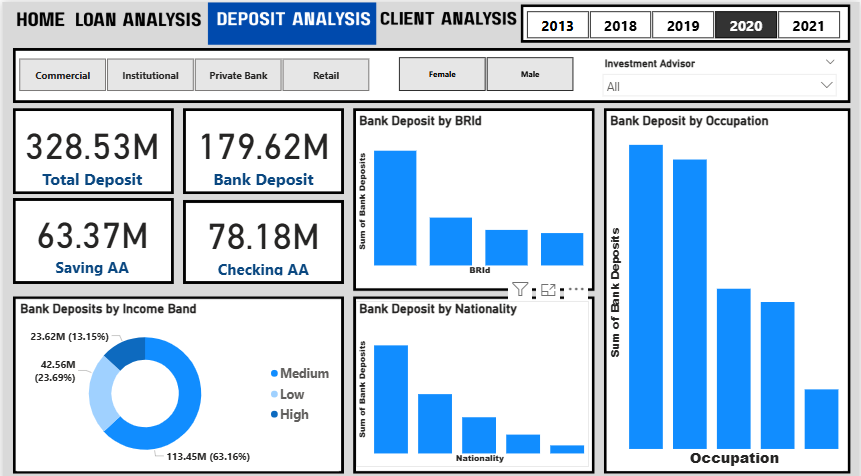

This screenshot's page, from the dashboard's own definition file:
{"tool":"powerbi","page":{"name":"Deposit Analysis","canvas":[1280,720],"ordinal":2},"visuals":[{"type":"slicer","fields":{"Values":["banking_case customer.Year of Joining"]},"box":[762.3,11.5,506.6,44.3],"z":0},{"type":"actionButton","box":[11.5,0,96.7,55.7],"z":1000},{"type":"actionButton","box":[109,0,189.6,55.2],"z":2000},{"type":"actionButton","box":[561.2,4.5,201.5,50.7],"z":4000},{"type":"card","fields":{"Values":["banking_case customer.Total Deposit"]},"box":[23,165.6,224.6,116.4],"z":5000},{"type":"card","fields":{"Values":["Sum(banking_case customer.Bank Deposits)"]},"box":[275.4,165.6,227.9,116.4],"z":6000},{"type":"card","fields":{"Values":["Sum(banking_case customer.Saving Accounts)"]},"box":[23,298.4,224.6,114.8],"z":7000},{"type":"card","fields":{"Values":["Sum(banking_case customer.Checking Accounts)"]},"box":[275.4,303.3,227.9,109.8],"z":8000},{"type":"donutChart","title":"Bank Deposits by Income Band","fields":{"Category":["banking_case customer.Income Band"],"Y":["Sum(banking_case customer.Bank Deposits)"]},"box":[23,445.9,480.3,254.1],"z":9000},{"type":"clusteredColumnChart","title":"Bank Deposit by BRId","fields":{"Category":["banking_case customer.BRId"],"Y":["Sum(banking_case customer.Bank Deposits)"]},"box":[527.9,165.6,347.5,247.5],"z":10000},{"type":"clusteredColumnChart","title":"Bank Deposit by Nationality","fields":{"Category":["banking_case customer.Nationality"],"Y":["Sum(banking_case customer.Bank Deposits)"]},"box":[527.9,445.9,347.5,247.5],"z":11000},{"type":"clusteredColumnChart","title":"Bank Deposit by Occupation","fields":{"Y":["Sum(banking_case customer.Bank Deposits)"],"Category":["banking_case customer.Occupation"]},"box":[903.3,165.6,352.5,534.4],"z":12000},{"type":"slicer","fields":{"Values":["banking_case customer.BRId"]},"box":[0,77,572.1,62.3],"z":13000},{"type":"slicer","fields":{"Values":["banking_case customer.GenderId"]},"box":[572.1,80.3,300,54.1],"z":14000},{"type":"slicer","fields":{"Values":["banking_case customer.IAId"]},"box":[886.9,77,368.9,65.6],"z":15000},{"type":"actionButton","box":[313.4,1.5,237.3,55.2],"z":15001}]}

Visuals, with their boxes in screenshot pixels (x1, y1, x2, y2), scaled from the page's 1280x720 canvas onto the 861x476 screenshot:
slicer - banking_case customer.Year of Joining: [513,8,854,37]
actionButton: [8,0,73,37]
actionButton: [73,0,201,36]
actionButton: [377,3,513,36]
card - banking_case customer.Total Deposit: [15,109,167,186]
card - Sum(banking_case customer.Bank Deposits): [185,109,339,186]
card - Sum(banking_case customer.Saving Accounts): [15,197,167,273]
card - Sum(banking_case customer.Checking Accounts): [185,201,339,273]
"Bank Deposits by Income Band" donutChart: [15,295,339,463]
"Bank Deposit by BRId" clusteredColumnChart: [355,109,589,273]
"Bank Deposit by Nationality" clusteredColumnChart: [355,295,589,458]
"Bank Deposit by Occupation" clusteredColumnChart: [608,109,845,463]
slicer - banking_case customer.BRId: [0,51,385,92]
slicer - banking_case customer.GenderId: [385,53,587,89]
slicer - banking_case customer.IAId: [597,51,845,94]
actionButton: [211,1,370,37]
